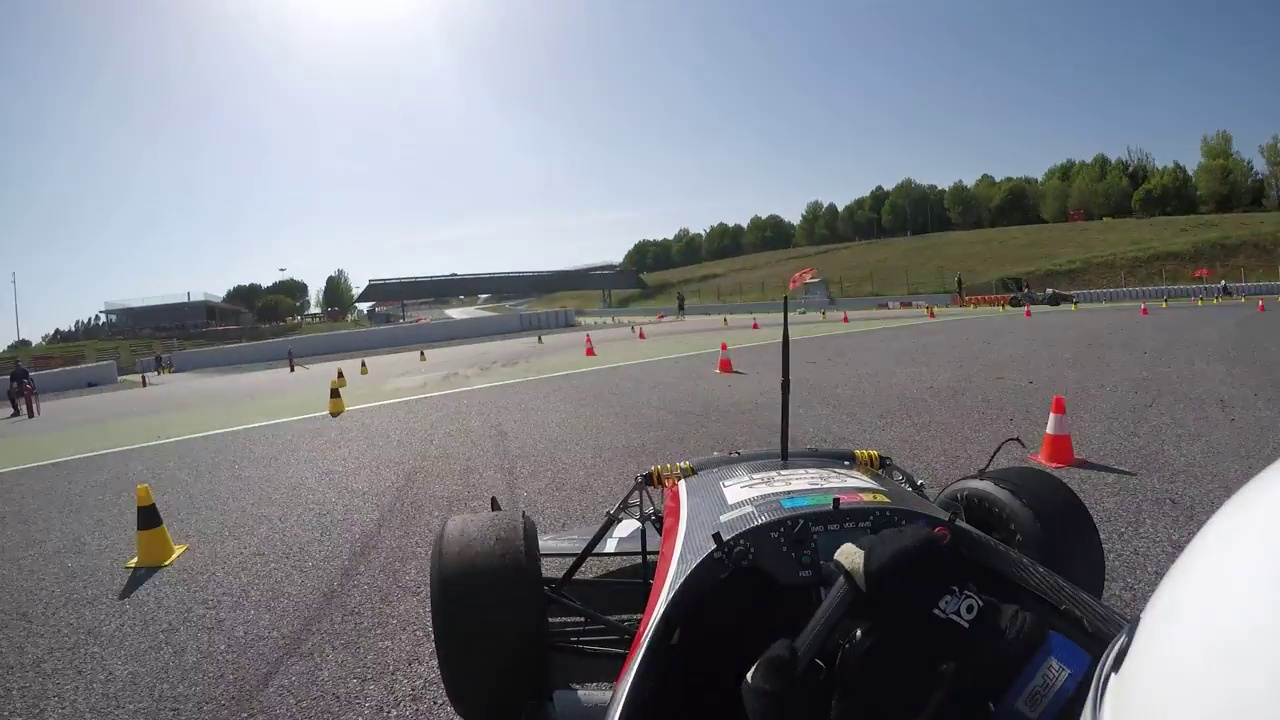Cone: (131, 482, 180, 568), (1032, 391, 1085, 464), (326, 376, 349, 417), (716, 339, 735, 372)
